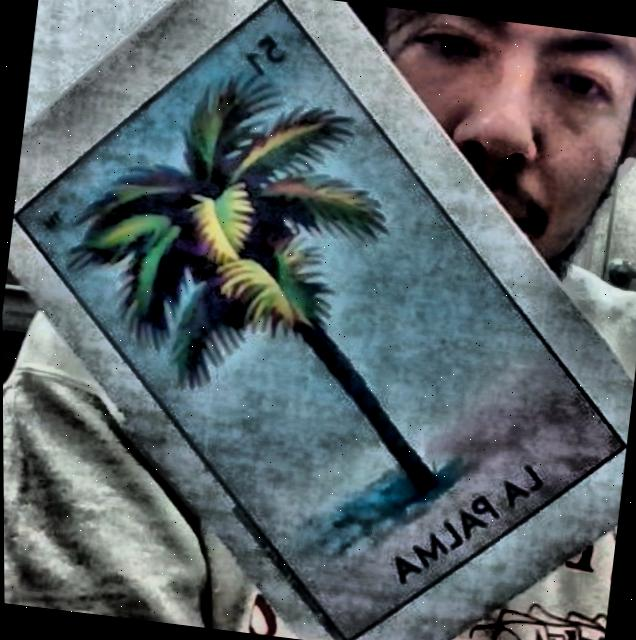La Palma: (13, 0, 626, 638)
